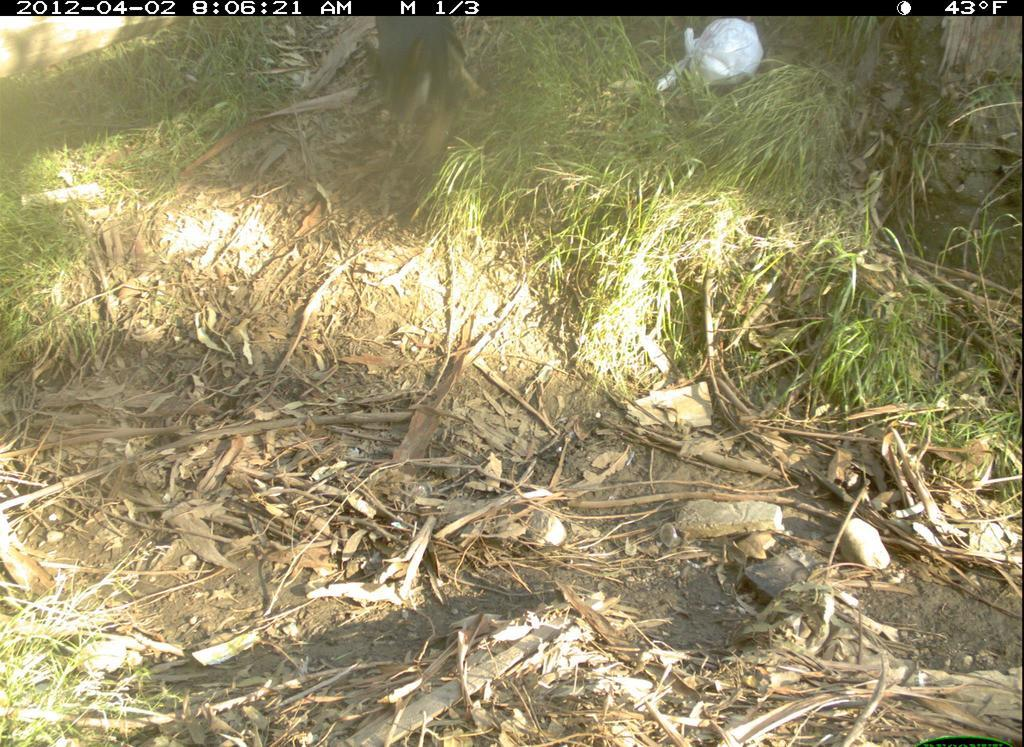dog: (642, 20, 812, 114)
